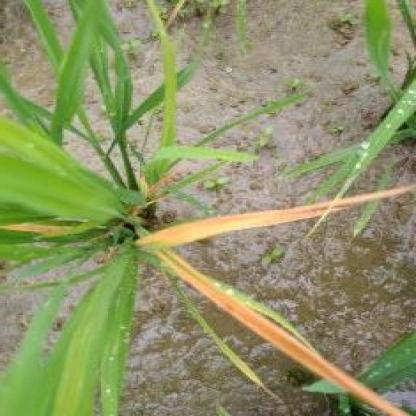Tungro: (152, 250, 404, 416), (131, 194, 404, 253)
